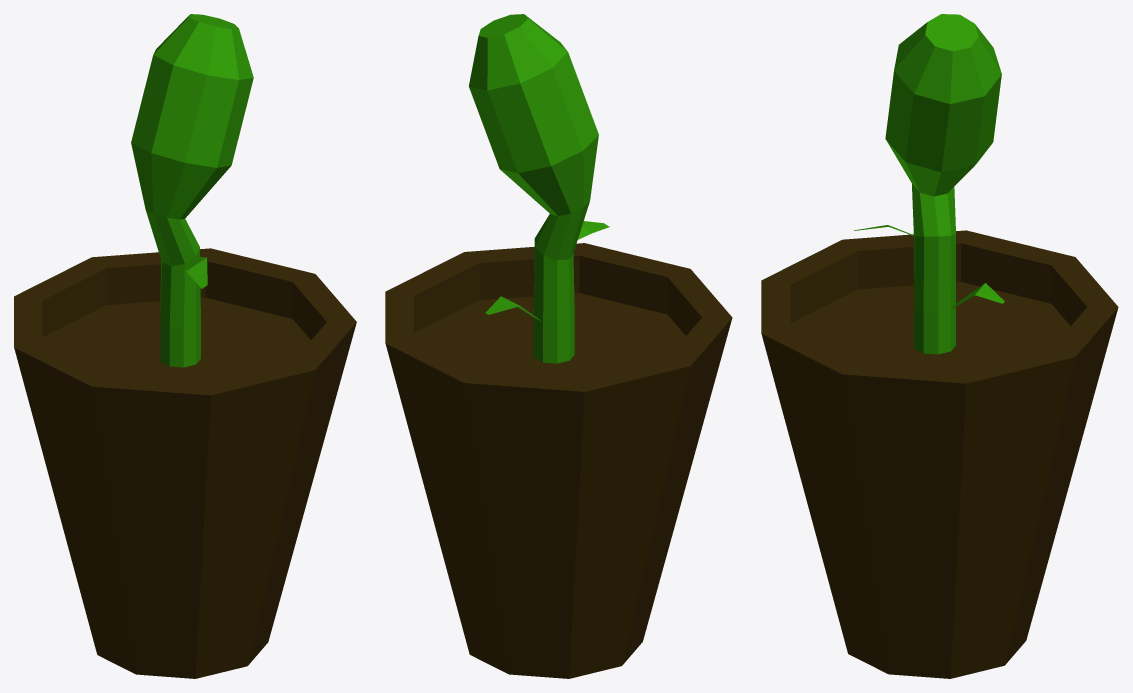
Rendered from bugplantOne.fbx.
3 views of the same model, side by side, from view 1: azimuth 30°, elevation 25°; view 2: azimuth 150°, elevation 25°; view 3: azimuth 270°, elevation 25° (orthographic). The views are drawn at different scales.
Parts seen in each view (by area): view 1: Cylinder; view 2: Cylinder; view 3: Cylinder.
Part boxes in pixels (x1,y1,x2,y2): Cylinder: (14, 14, 356, 678); Cylinder: (385, 14, 732, 678); Cylinder: (761, 14, 1118, 678).
Bounding box in the file's own units: 49.19 × 95.49 × 48.44.
Materials: 1 (1 with a texture image).
